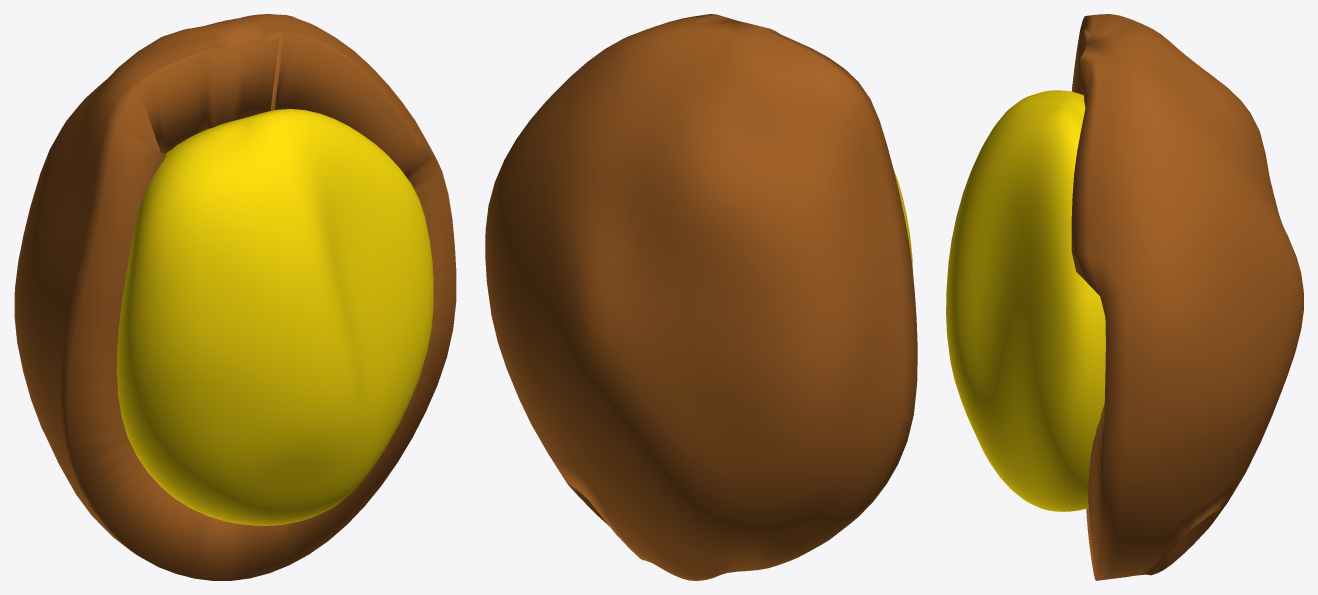
The model's file is Seed_Lipid_Reserve_V2.glb.
3 views of the same model, side by side, from view 1: azimuth 30°, elevation 25°; view 2: azimuth 150°, elevation 25°; view 3: azimuth 270°, elevation 25° (orthographic). The views are drawn at different scales.
Parts seen in each view (by area): view 1: Sphere.005, Sphere.006; view 2: Sphere.006; view 3: Sphere.006, Sphere.005.
Boxes of the visible parts, left/top/right/bottom form: Sphere.005: left=116, top=109, right=433, bottom=525; Sphere.006: left=14, top=14, right=456, bottom=580; Sphere.006: left=485, top=14, right=917, bottom=580; Sphere.006: left=1071, top=14, right=1303, bottom=580; Sphere.005: left=946, top=90, right=1105, bottom=511.
Bounding box in the file's own units: 1.55 × 2.01 × 1.27.
